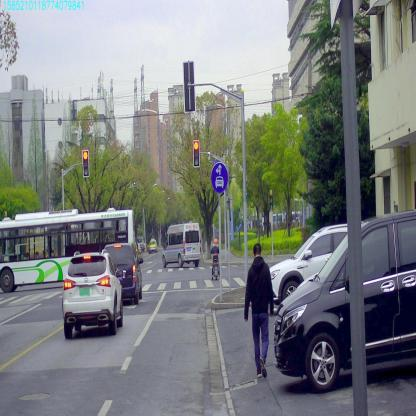traffic-light: (193, 140, 199, 167), (82, 150, 88, 176)
